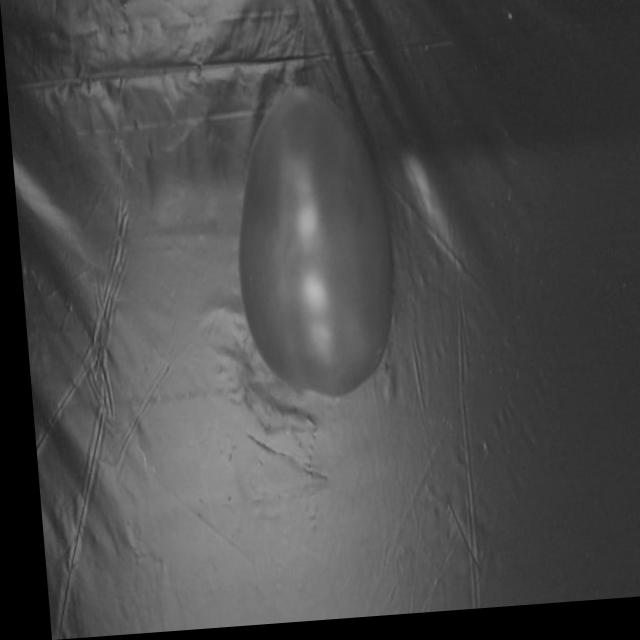kirmizi: (223, 68, 397, 410)
